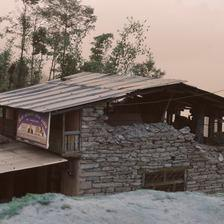Destroyed_Building: (0, 68, 224, 204)
